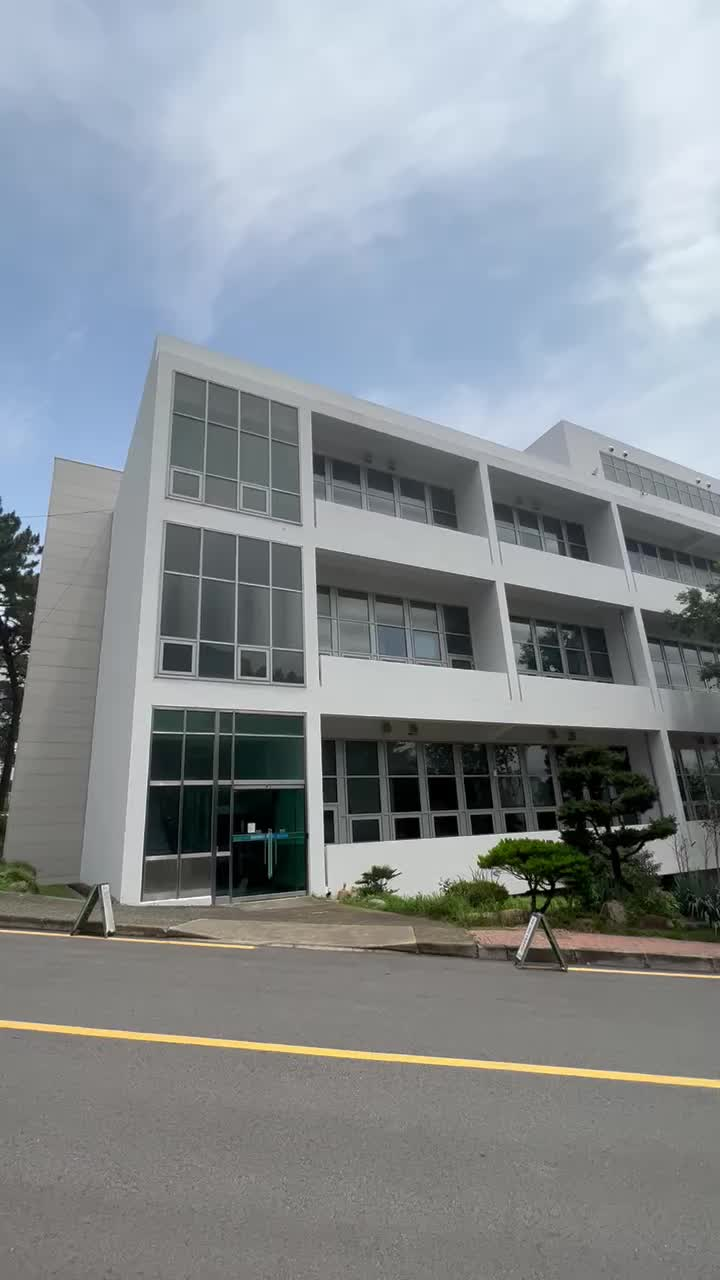low: (56, 342, 658, 872)
